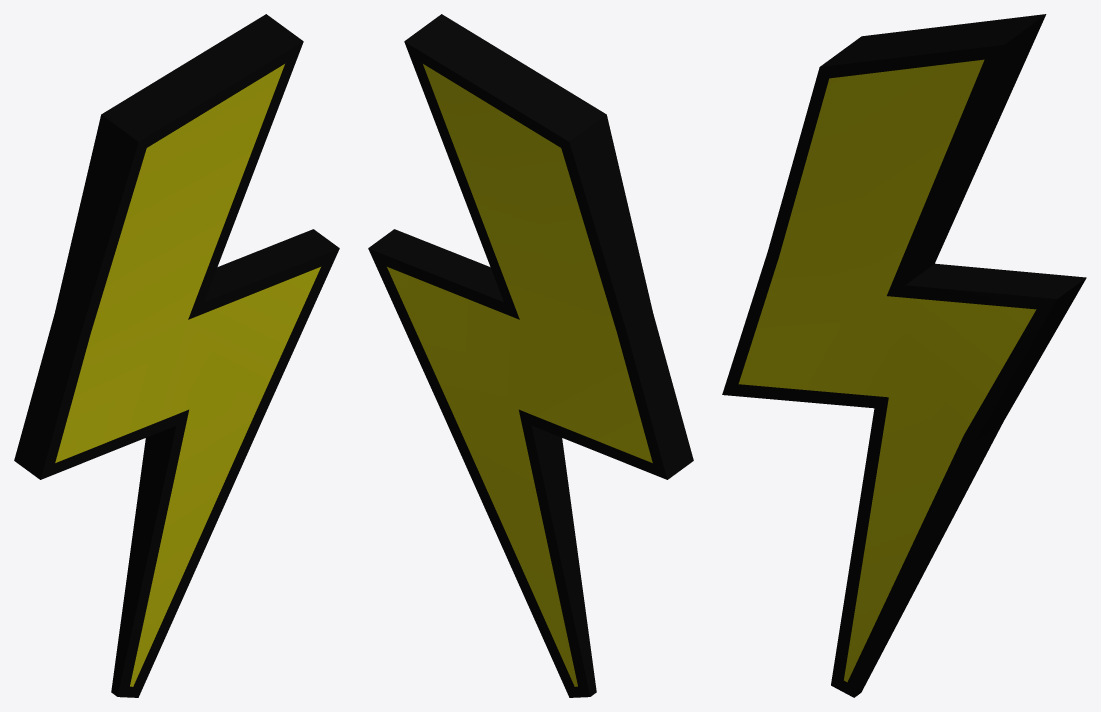
Rendered from Raio.fbx.
The picture shows the model from 3 angles, left to right: view 1: azimuth 30°, elevation 25°; view 2: azimuth 150°, elevation 25°; view 3: azimuth 330°, elevation 25°; orthographic projection. The views are drawn at different scales.
Parts seen in each view (by area): view 1: Raio; view 2: Raio; view 3: Raio.
Boxes of the visible parts, x1,y1,x2,y2 form: Raio: (14, 14, 339, 697); Raio: (368, 14, 693, 697); Raio: (722, 14, 1086, 697).
Bounding box in the file's own units: 197 × 397 × 42.7.
